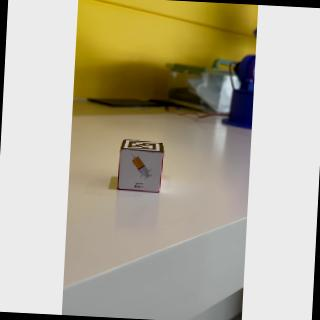Syringe: (118, 151, 165, 193)
